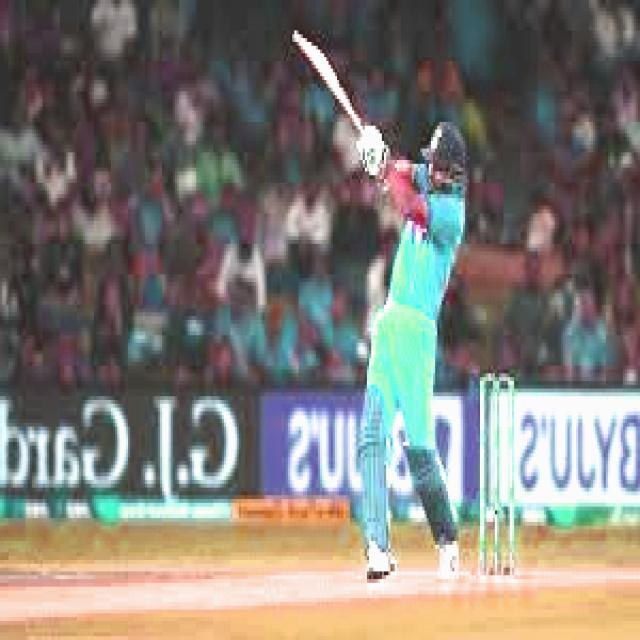toe: (288, 29, 312, 56)
